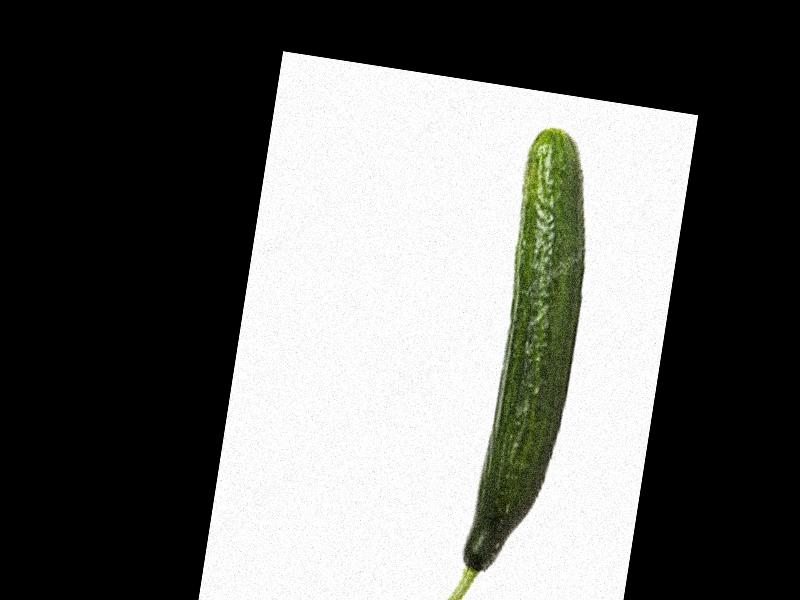Cucumber: (435, 124, 605, 600)
